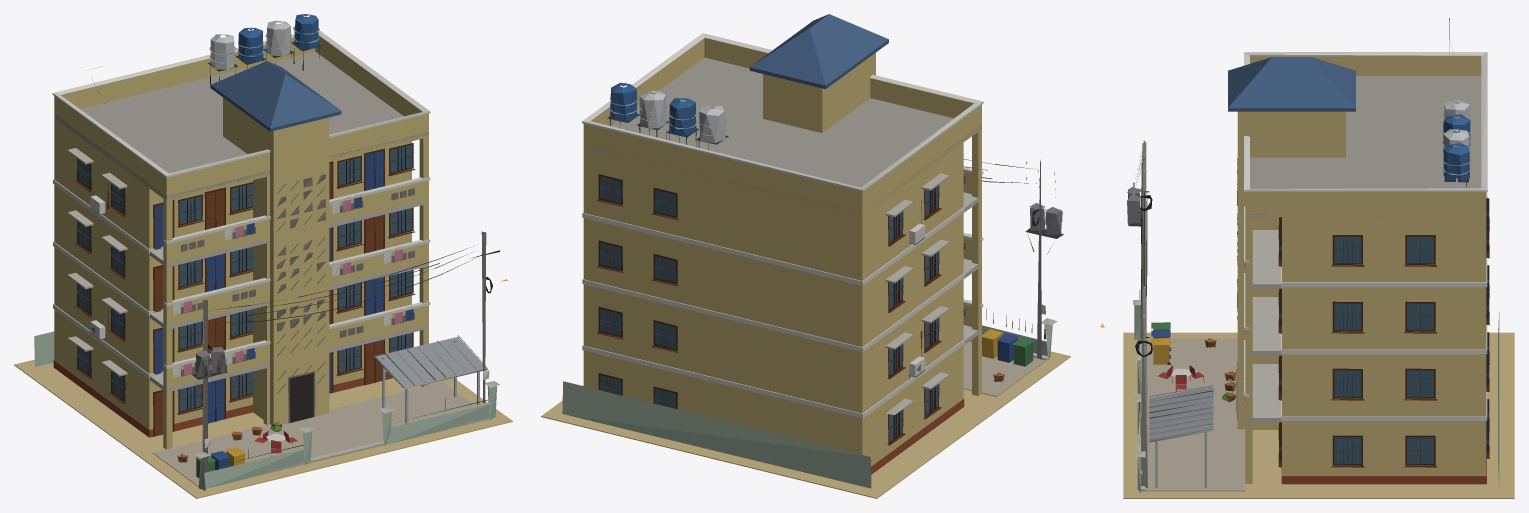
Rendered from home_4.glb.
3 views of the same model, side by side, from view 1: azimuth 30°, elevation 25°; view 2: azimuth 150°, elevation 25°; view 3: azimuth 270°, elevation 25° (orthographic). The views are drawn at different scales.
Visible parts, largest first — view 1: body, windows; view 2: body, windows; view 3: body, windows.
Boxes of the visible parts, box(x1,y1,x2,y2) form: body: box(14, 14, 512, 498); windows: box(77, 145, 508, 422); body: box(541, 14, 1070, 498); windows: box(600, 176, 938, 441); body: box(1123, 18, 1514, 498); windows: box(1100, 201, 1487, 464).
Size of the model in its own units: 15.9 by 16.3 by 16.88.
